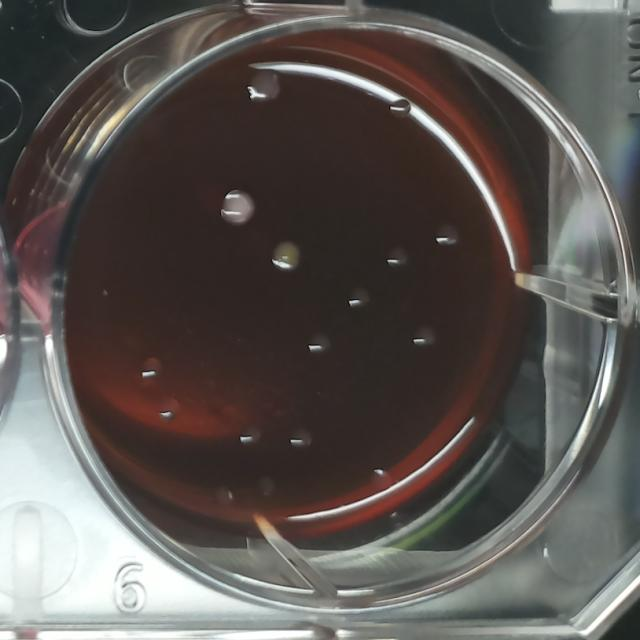Bacillus: (216, 187, 258, 230)
Vibrio: (266, 236, 305, 275), (409, 321, 444, 355), (134, 353, 167, 388), (305, 327, 337, 361), (286, 421, 318, 455), (431, 219, 462, 251), (153, 392, 184, 424), (236, 421, 266, 453), (344, 283, 374, 314), (366, 465, 393, 496), (209, 482, 237, 511), (383, 243, 410, 272), (254, 471, 280, 501)
